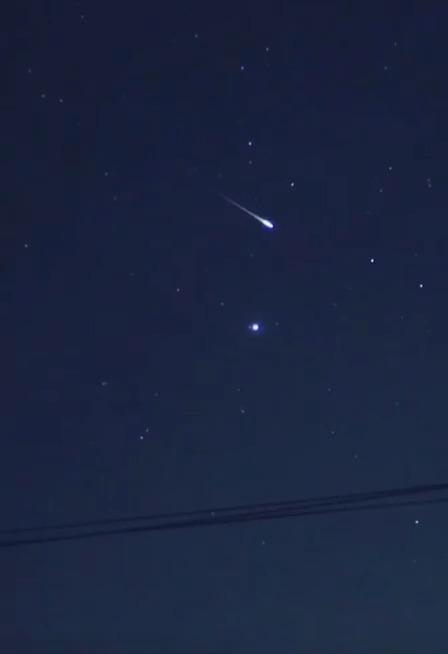meteorite: (206, 185, 291, 243)
